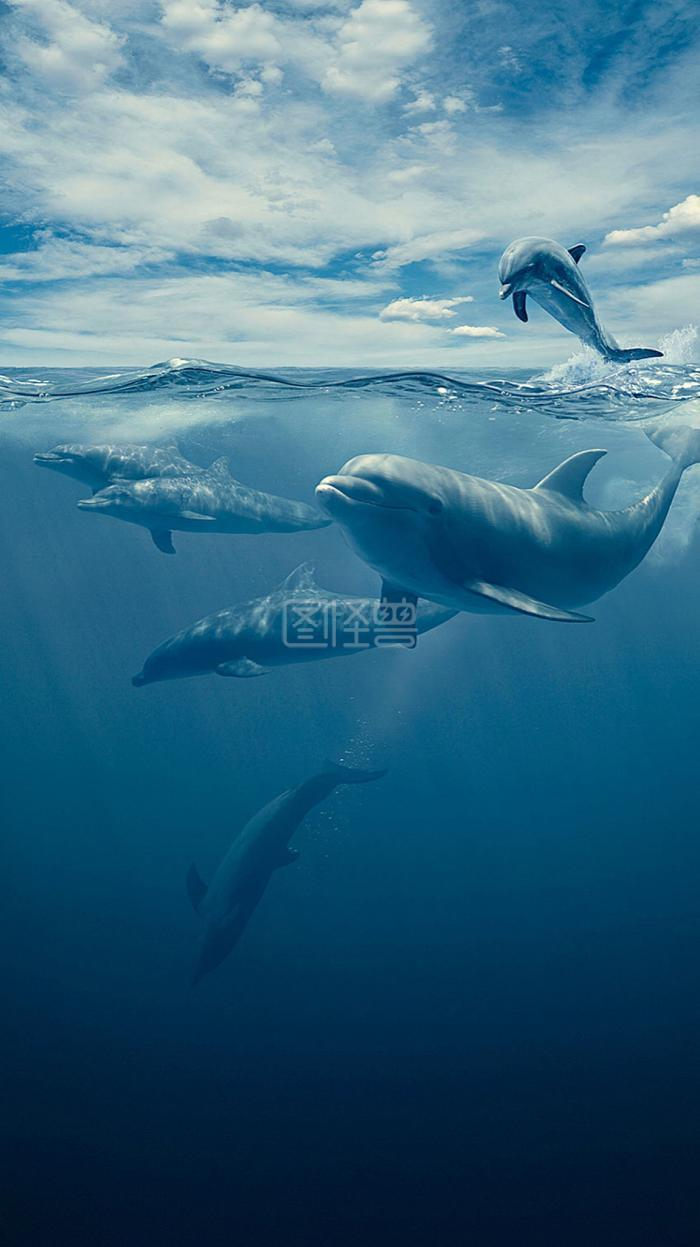fish: (314, 424, 700, 631), (175, 761, 381, 997), (127, 562, 453, 696), (492, 226, 669, 363), (74, 472, 321, 555), (29, 437, 248, 484)
